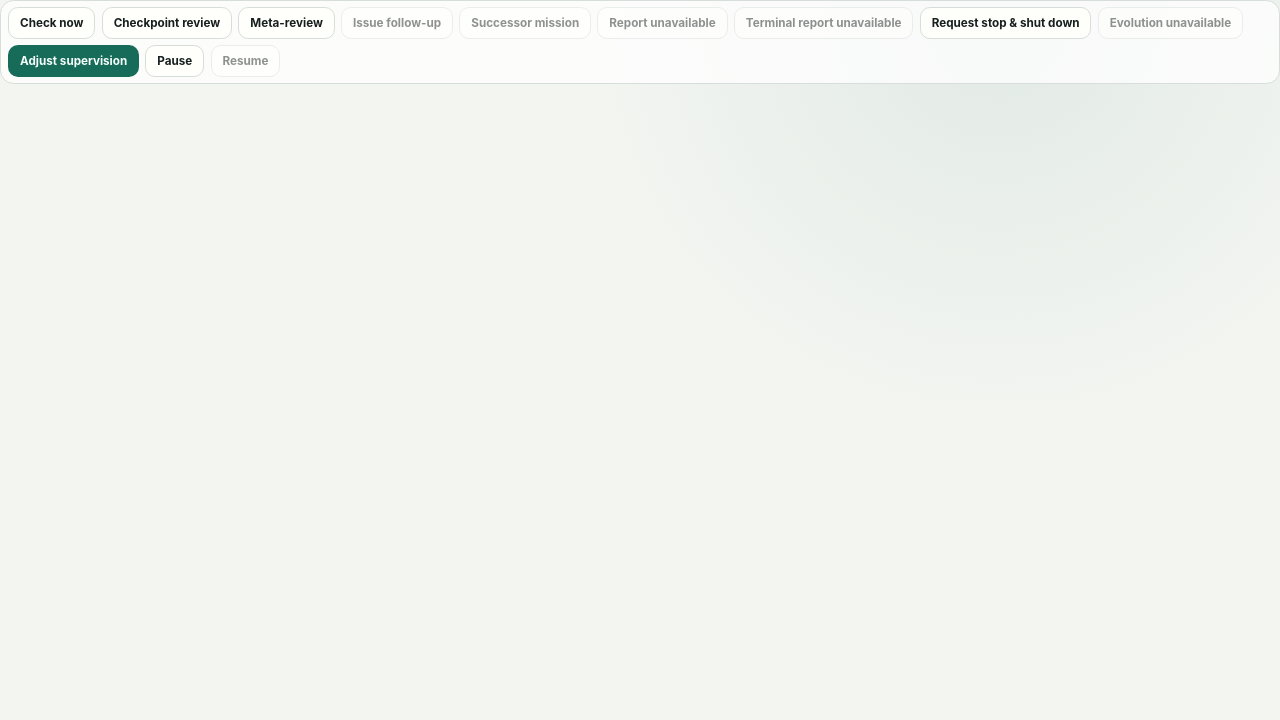
Test: Factory workflow action strips › previews terminal shutdown as a distinct bounded owner sequence
The width and height of the screenshot is (1280, 720).
Click the button "Request stop & shut down". click: (1006,23)
box: [920,7,1091,39]
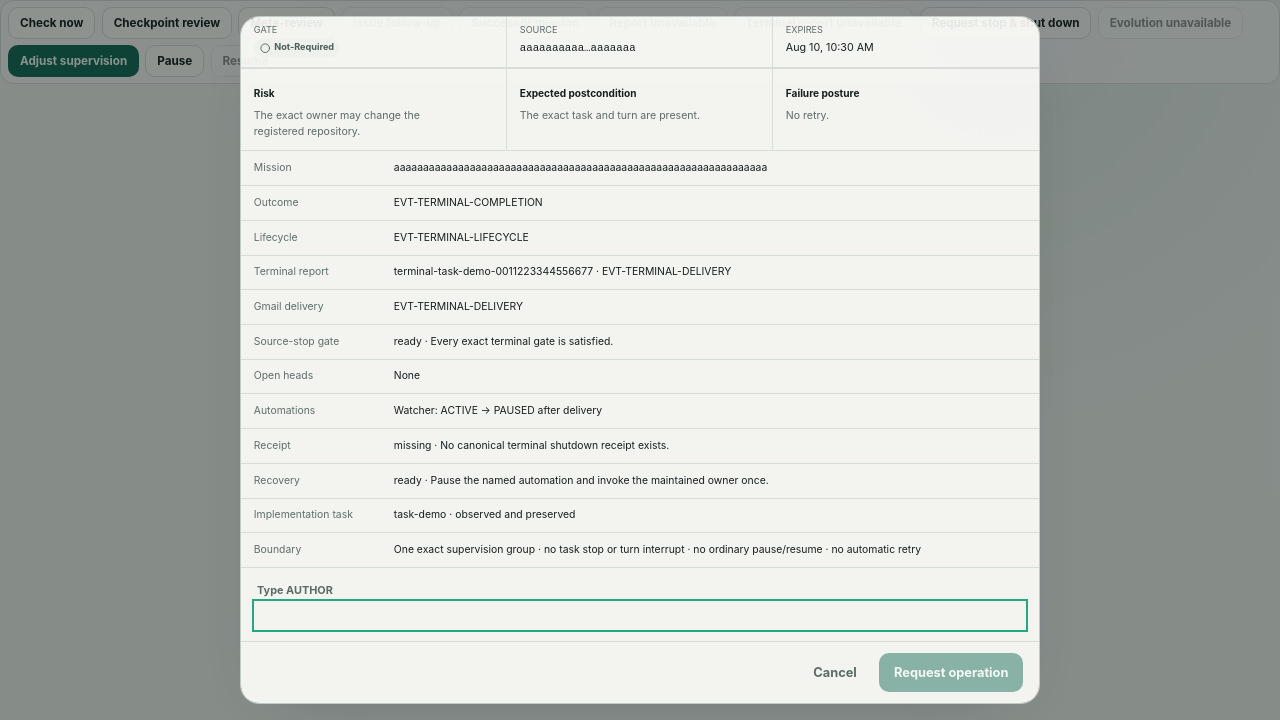
Result: the text "EVT-TERMINAL-COMPLETION" is shown at [394,196,543,209]
Result: the text "ready · Every exact terminal gate is satisfied." is shown at [394,335,613,348]
Result: the text "Watcher: ACTIVE → PAUSED after delivery" is shown at [394,404,602,417]
